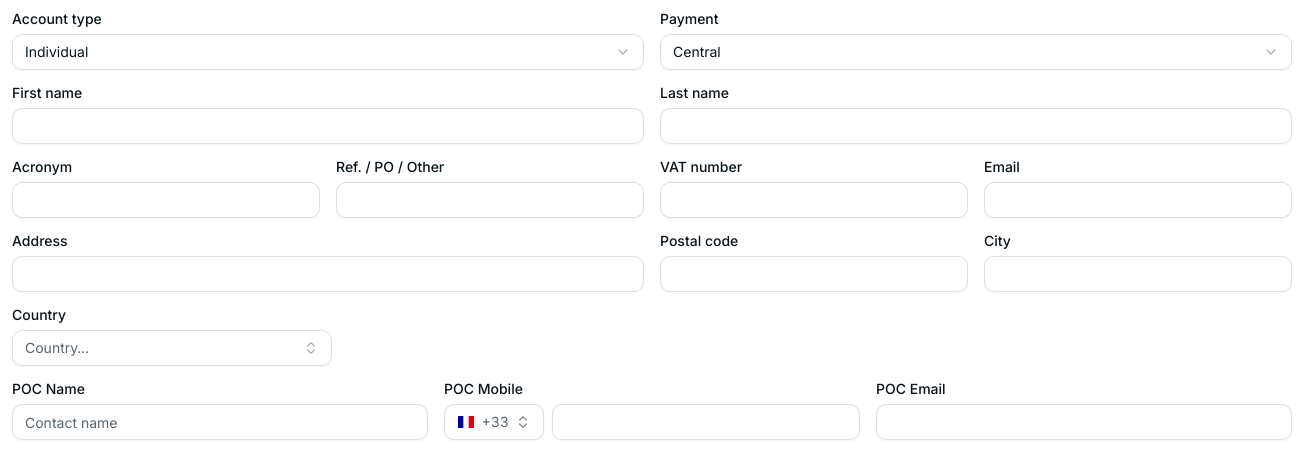
Test: ClientFormFields — POC Full Name auto-sync › fills POC Name from the contact first and last name
This screenshot has width=1304, height=457.
In the field labelled "First name": (328, 126) [12,108,644,144], type "Marc"
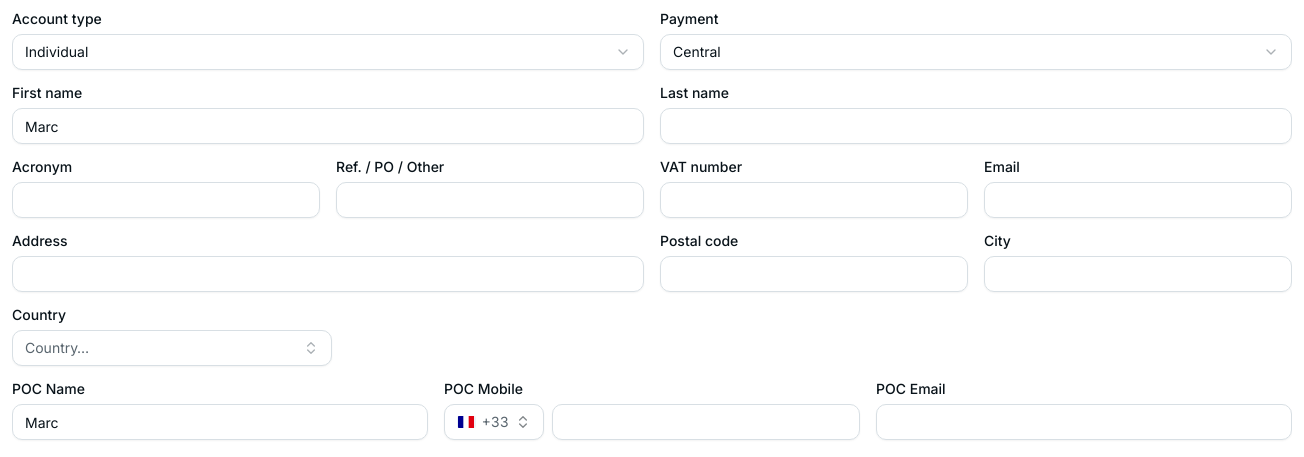
In the field labelled "Last name": (976, 126) [660,108,1292,144], type "Dubois"
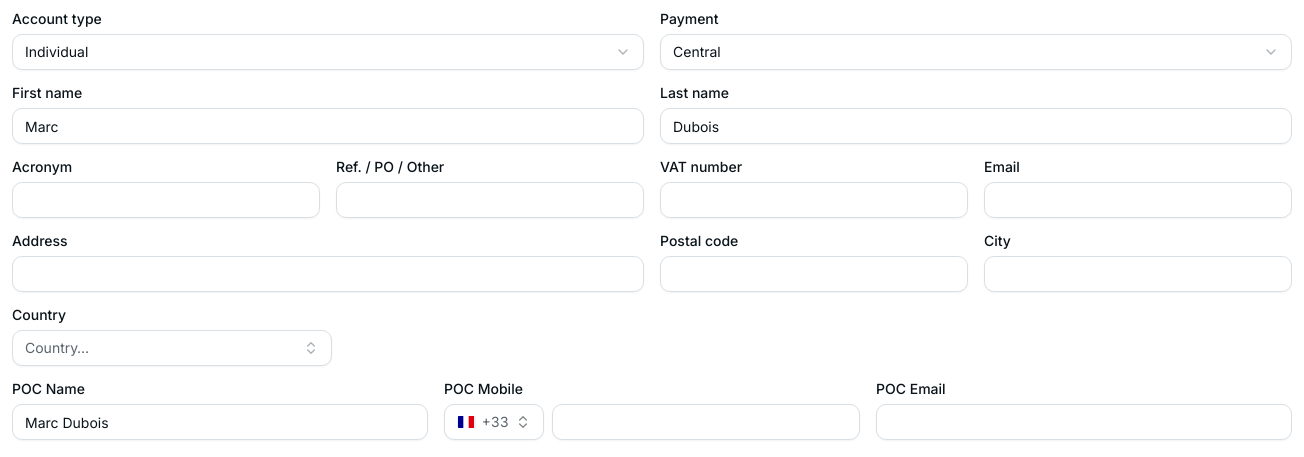
Expected: the field labelled "POC Name" holds "Marc Dubois", [12,404,428,440]
